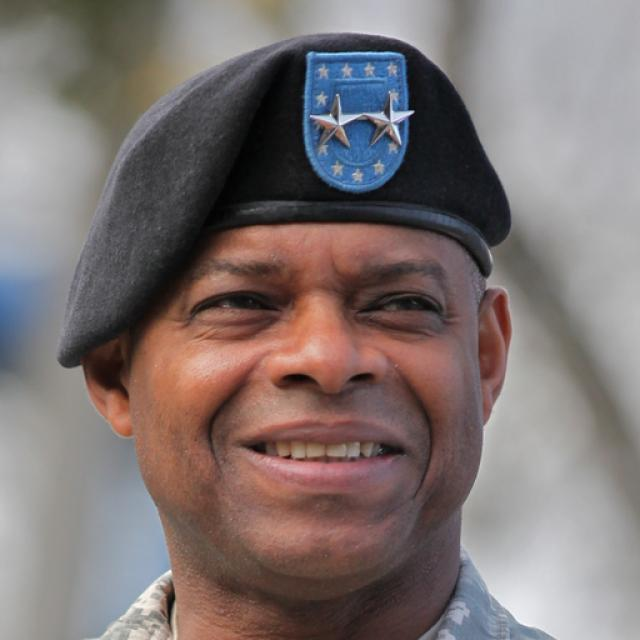happy: (136, 158, 480, 580)
